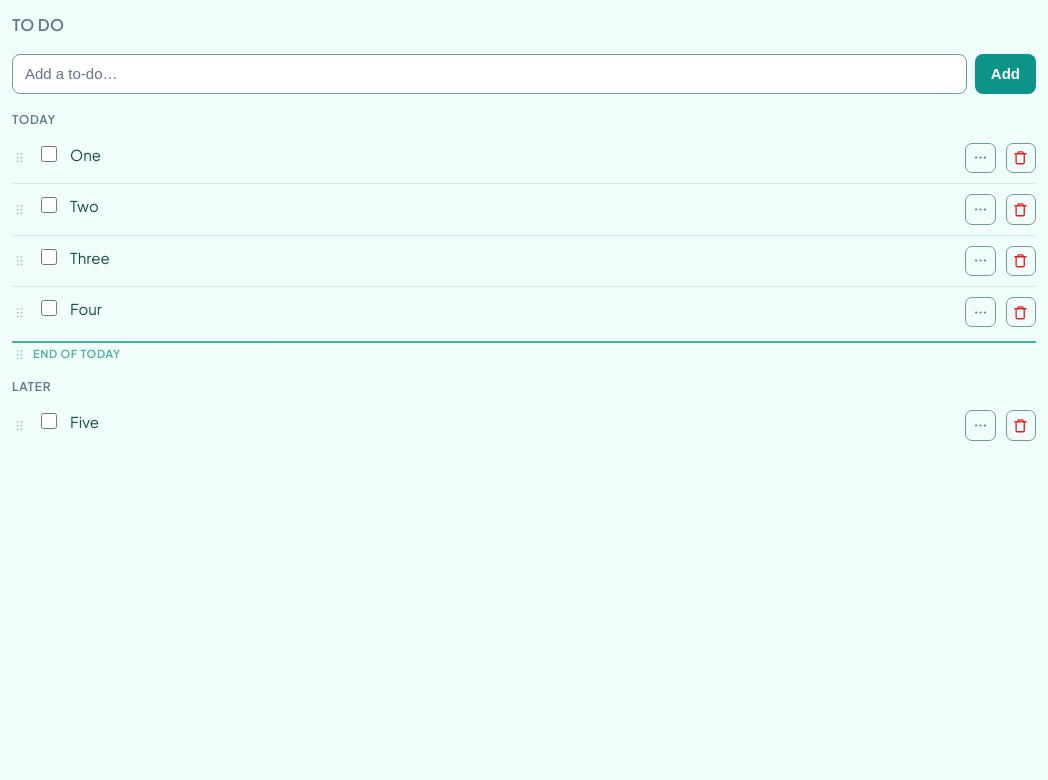
Test: TodoSection — move a to-do across the Today line (50-B) › promoting the only Later item empties the group
Expected: the button "One" is shown, [70,143,955,167]
Click the button named "Actions for \"Five\"". click: [980, 425]
box: [965,410,996,440]
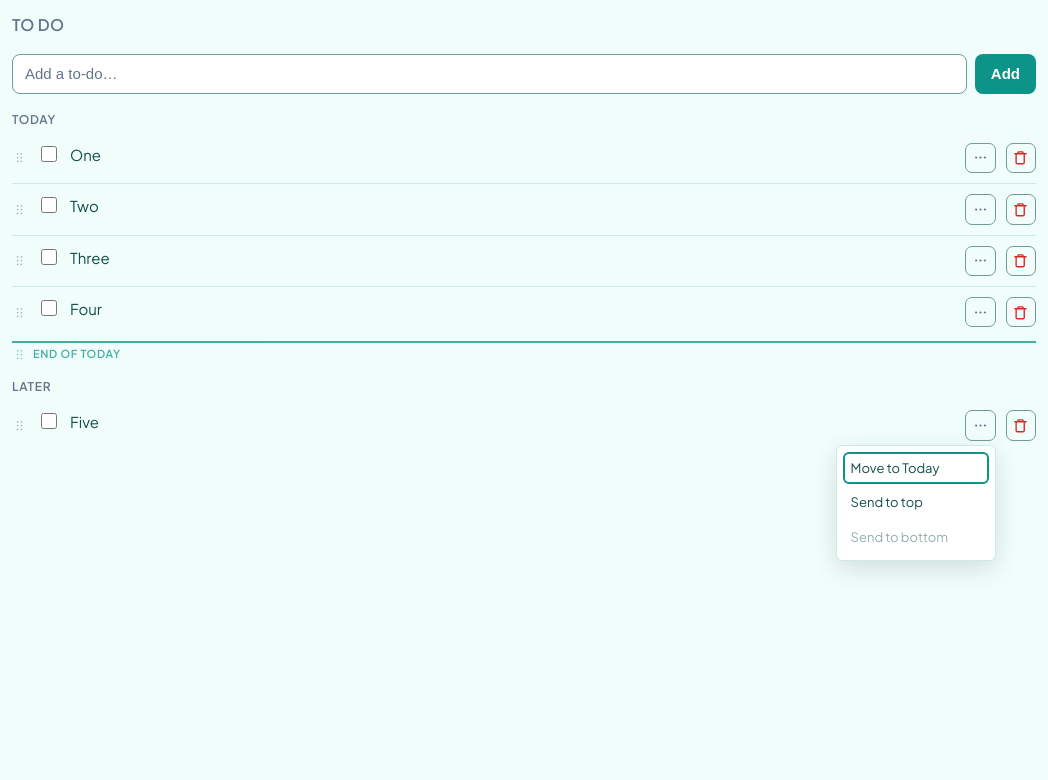
Click the menu item "Move to Today". click: [916, 468]
box: [843,452,989,484]
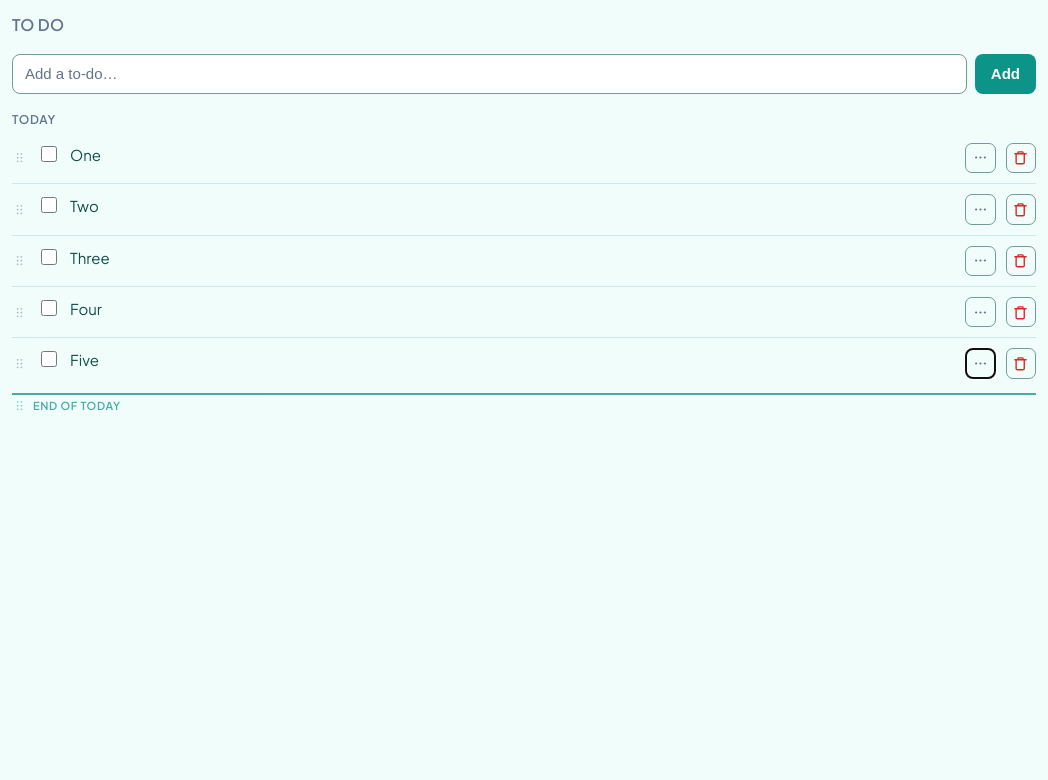
Now the list with test id "todo-later-list" is gone
